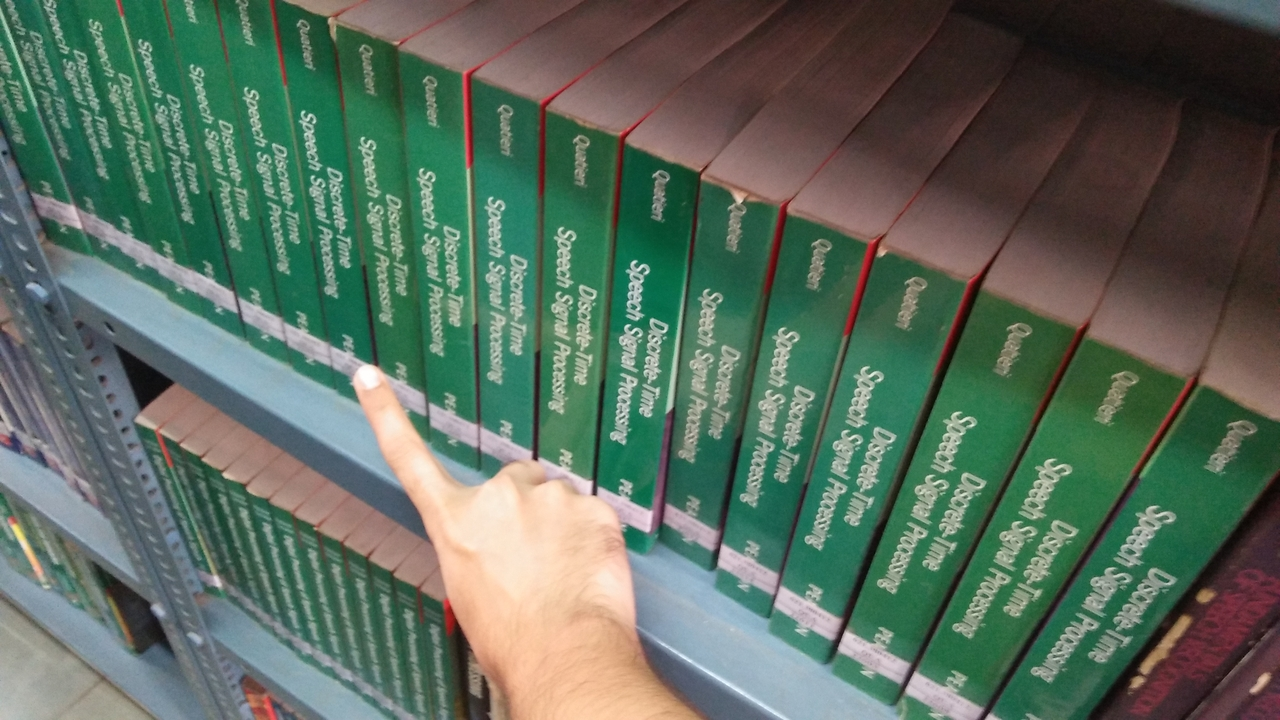fingertip: (330, 350, 398, 420)
